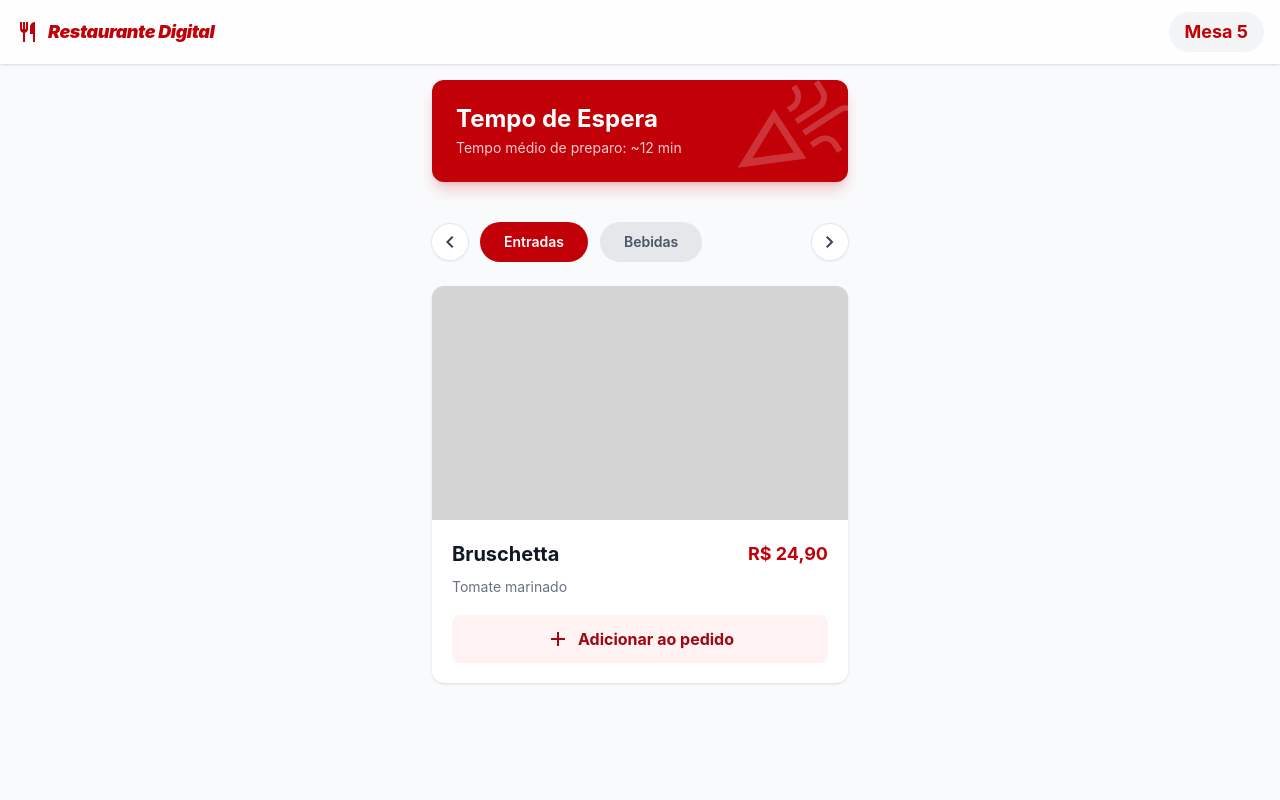
Test: MenuPage › troca de categoria ao clicar no botão da categoria
Expected: the heading "Bruschetta" is shown, x1=452 y1=540 x2=559 y2=568
Click the button "Bebidas": [651, 242] box x1=600 y1=222 x2=702 y2=262
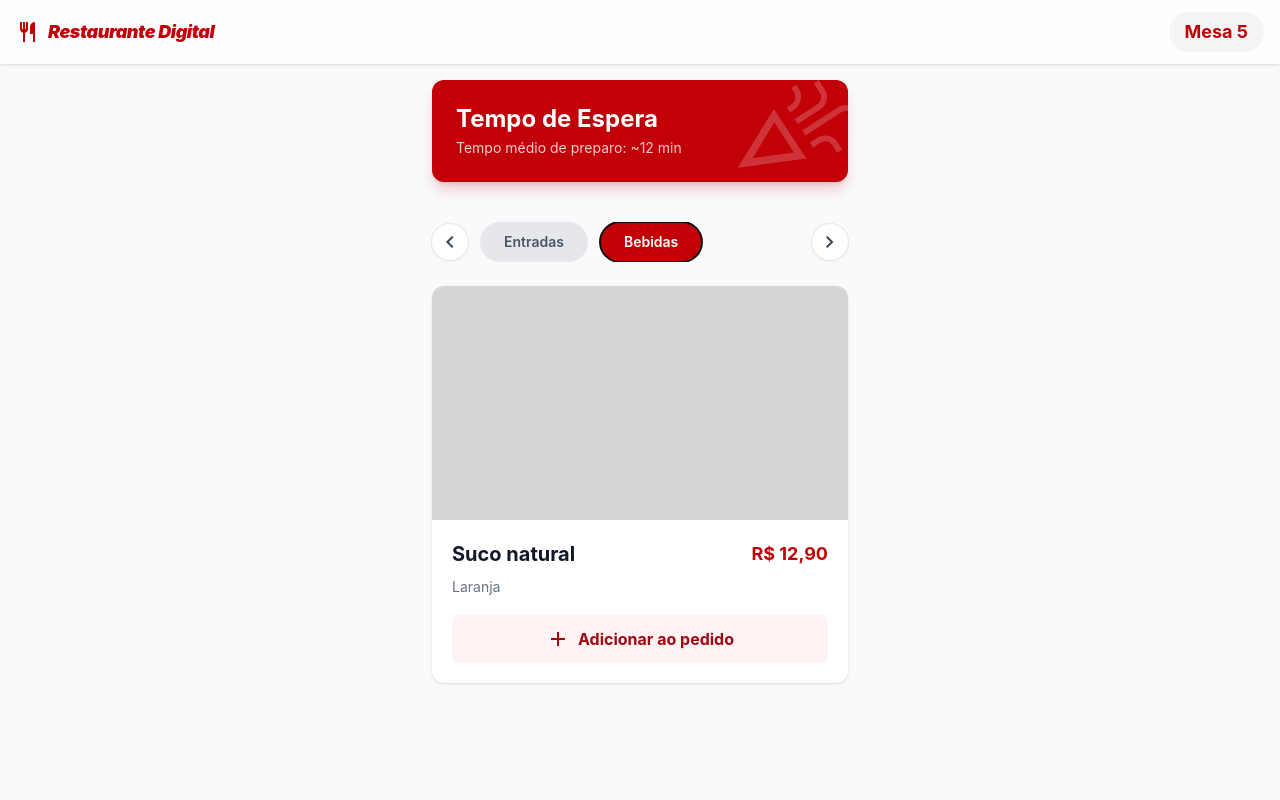
Expected: the heading "Suco natural" is shown, x1=452 y1=540 x2=575 y2=568
Expected: the heading "Bruschetta" is gone
